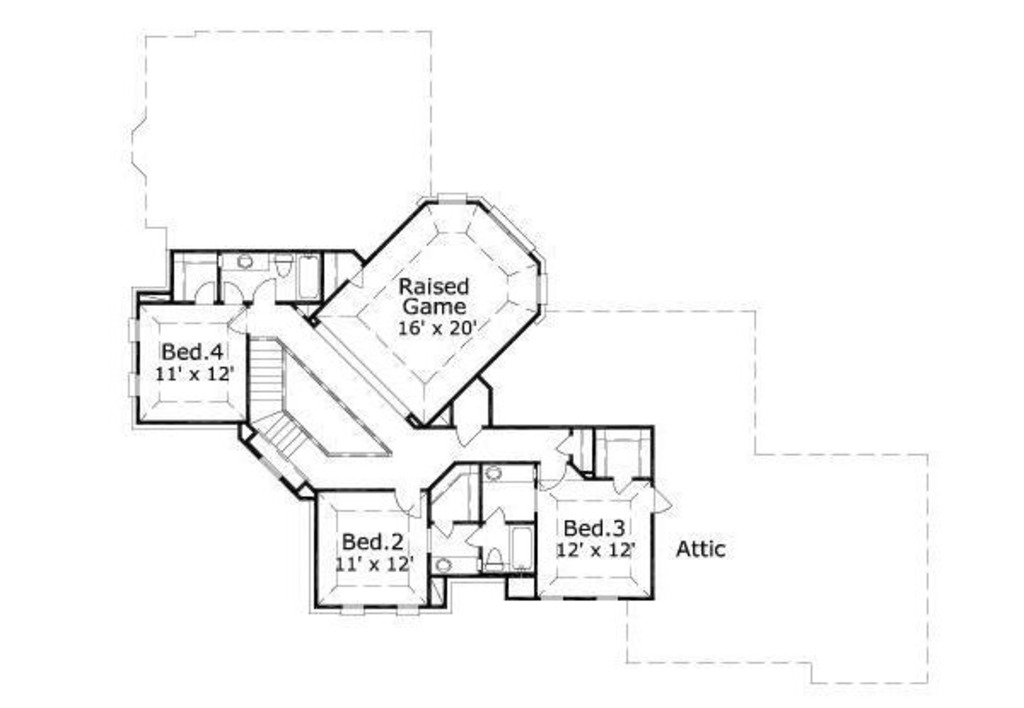door: (389, 484, 423, 522), (601, 471, 640, 500), (185, 278, 222, 308), (531, 463, 569, 492), (454, 423, 484, 453), (648, 488, 676, 518), (343, 264, 370, 295), (250, 280, 278, 305), (227, 308, 256, 332), (555, 429, 575, 460), (218, 280, 245, 301), (464, 525, 488, 545), (430, 521, 454, 540), (485, 506, 507, 523)
large_sink: (272, 252, 295, 277), (487, 547, 499, 572)
small_sink: (220, 250, 264, 269), (427, 556, 461, 573)
stairs: (247, 341, 331, 456)
tub: (504, 519, 539, 572), (296, 249, 321, 300)
window: (483, 203, 552, 262), (430, 188, 472, 210), (530, 270, 552, 304), (122, 312, 144, 345), (334, 600, 370, 619), (125, 371, 145, 399), (392, 601, 420, 618)
